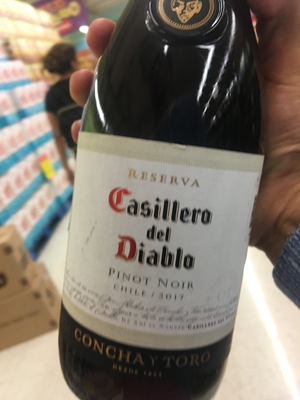casillero del diablo pinot noir: (51, 13, 266, 400)
